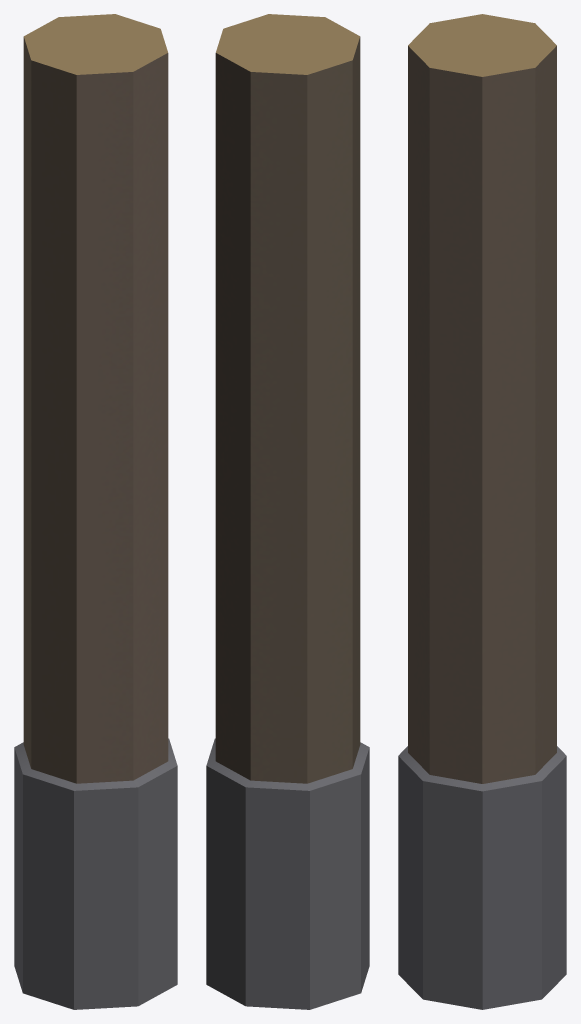
File: Beam_4.fbx
3 renders of one model, left to right at view 1: azimuth 30°, elevation 25°; view 2: azimuth 150°, elevation 25°; view 3: azimuth 270°, elevation 25°, orthographic.
Parts seen in each view (by area): view 1: pCylinder1; view 2: pCylinder1; view 3: pCylinder1.
Boxes of the visible parts, x1,y1,x2,y2 form: pCylinder1: (14, 14, 177, 1009); pCylinder1: (206, 14, 369, 1009); pCylinder1: (398, 14, 566, 1009).
Size of the model in its own units: 67.78 by 412 by 67.78.
